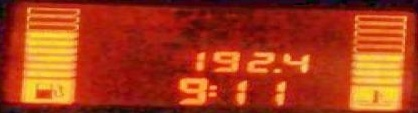-: (270, 67, 281, 73)
1: (232, 78, 247, 105), (271, 80, 285, 105), (191, 50, 205, 71)
2: (243, 50, 275, 73)
4: (280, 52, 310, 73)
9: (175, 77, 206, 105), (208, 50, 240, 72)
X: (205, 84, 216, 97)
